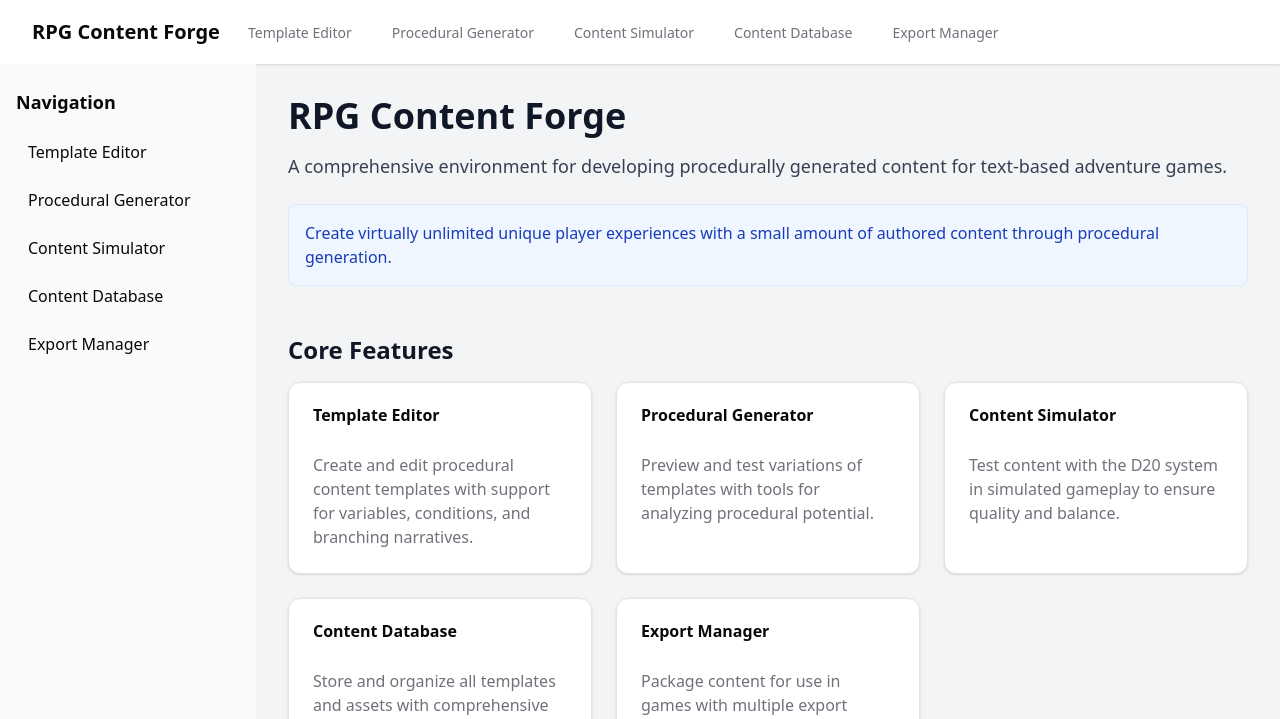
it: Home Page › navigates to Template Editor page
# Click on the Template Editor card
Click the 1st link "Template Editor" at [300, 33], box [248, 23, 352, 42]
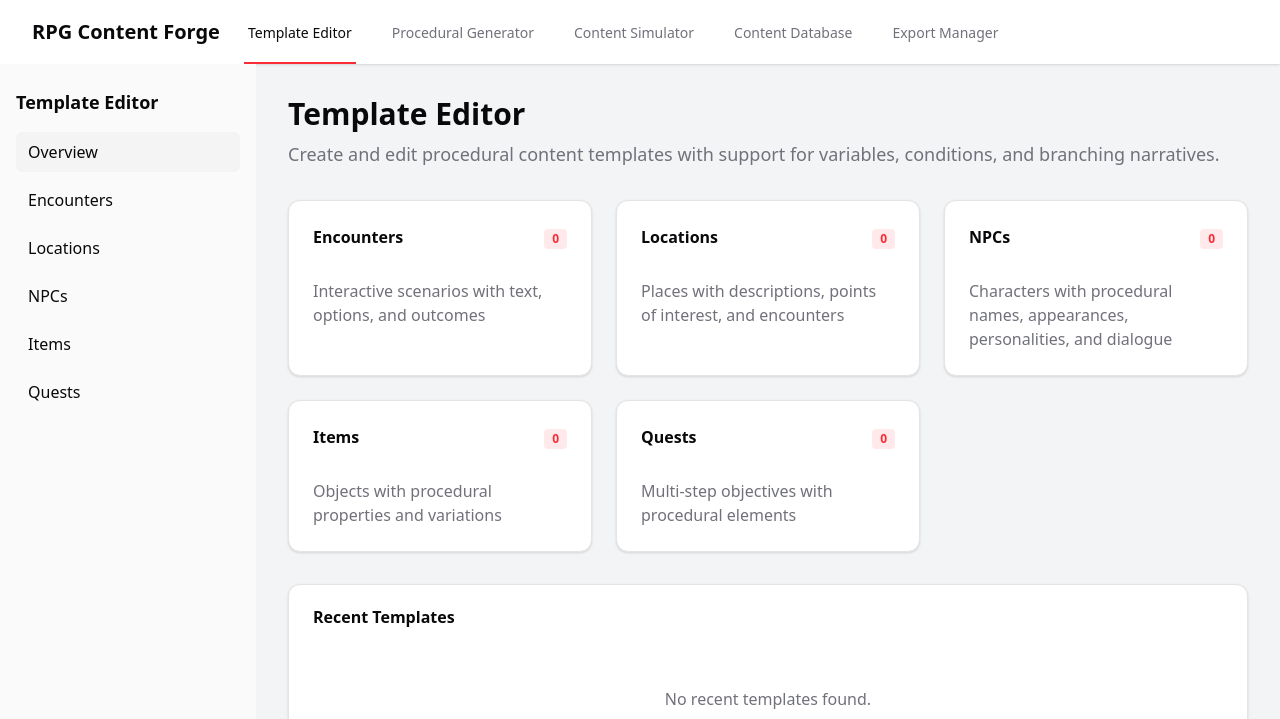
Now the 2nd heading "Template Editor" is shown, box [288, 93, 525, 134]
